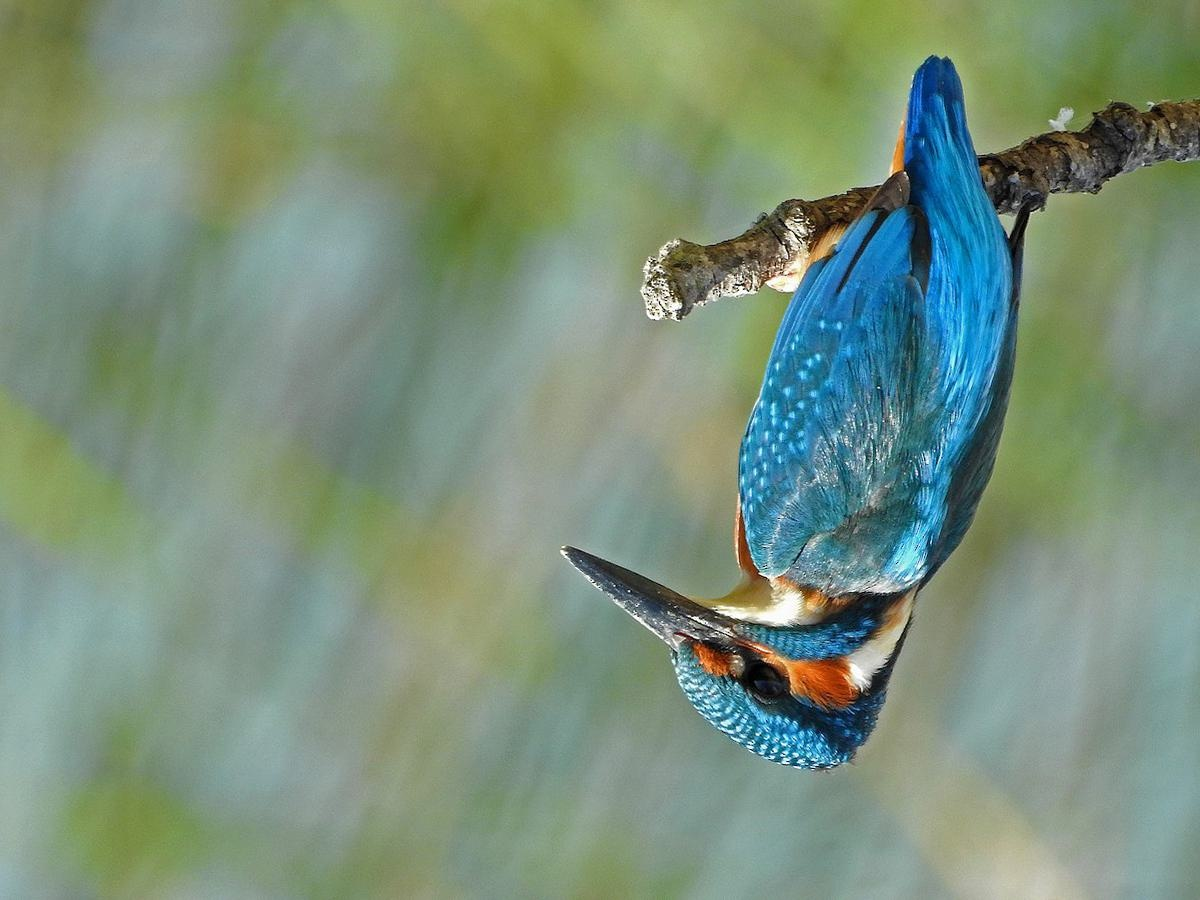kingfisher: (550, 54, 1039, 796)
